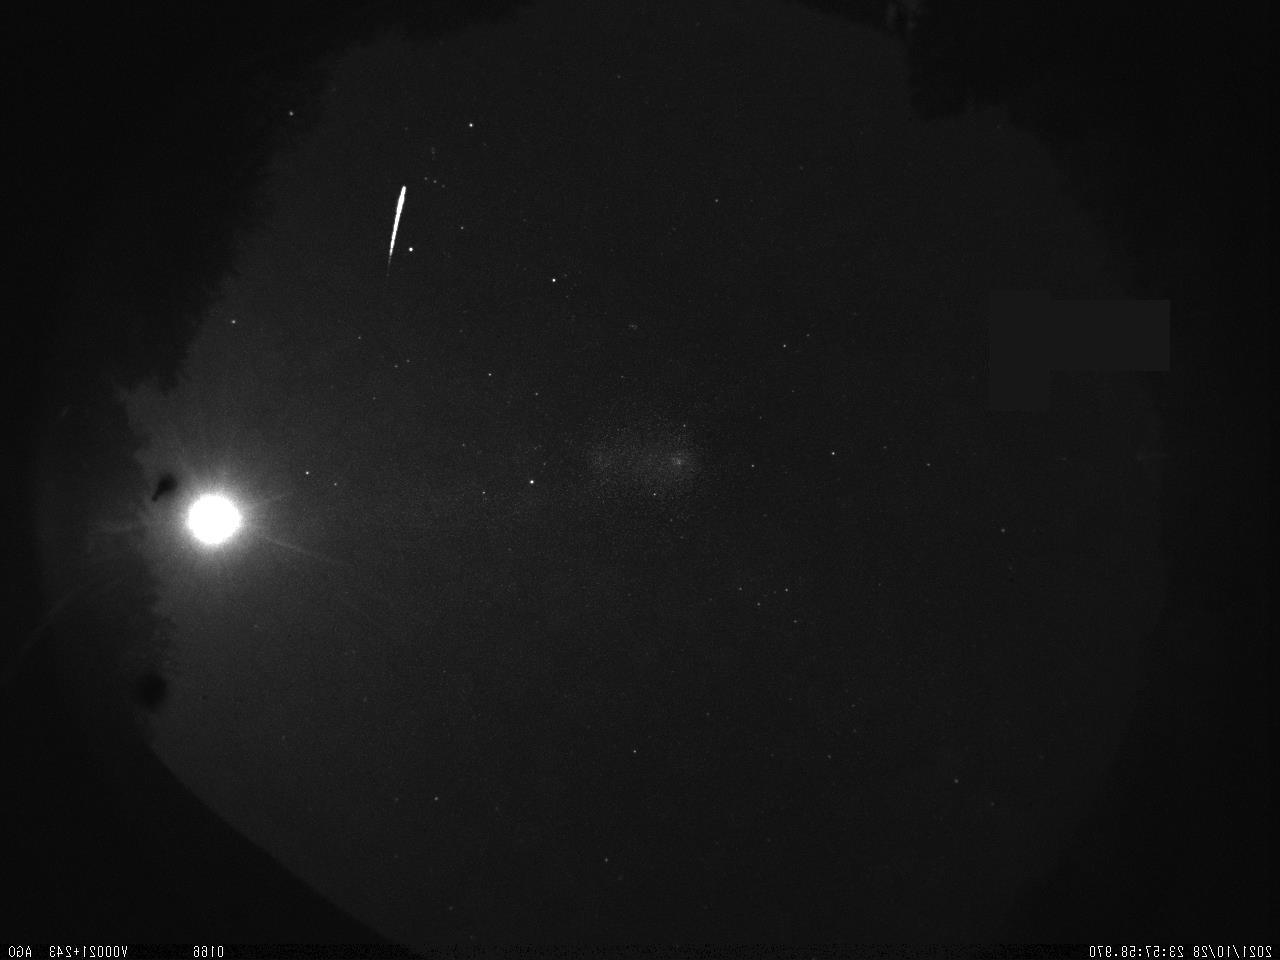meteor: (369, 183, 418, 270)
